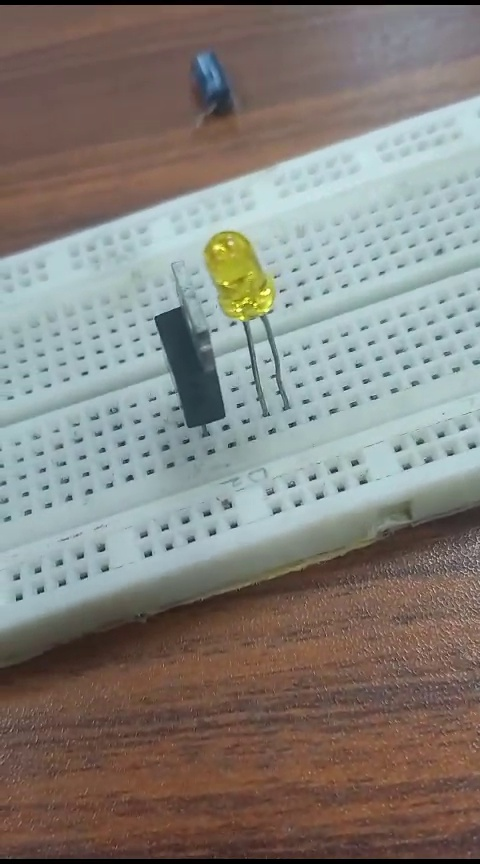LED: (200, 232, 303, 412)
voltage regulator: (140, 263, 219, 431)
